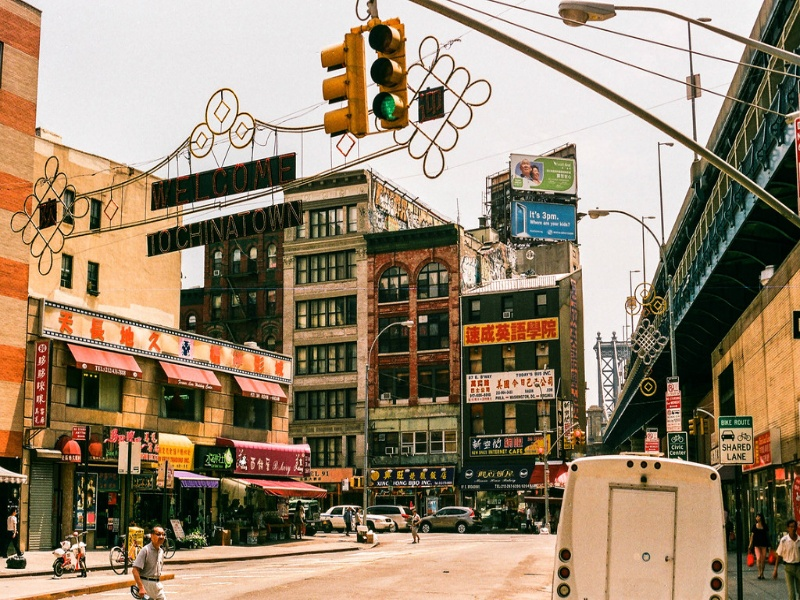green_light: (369, 85, 411, 127)
